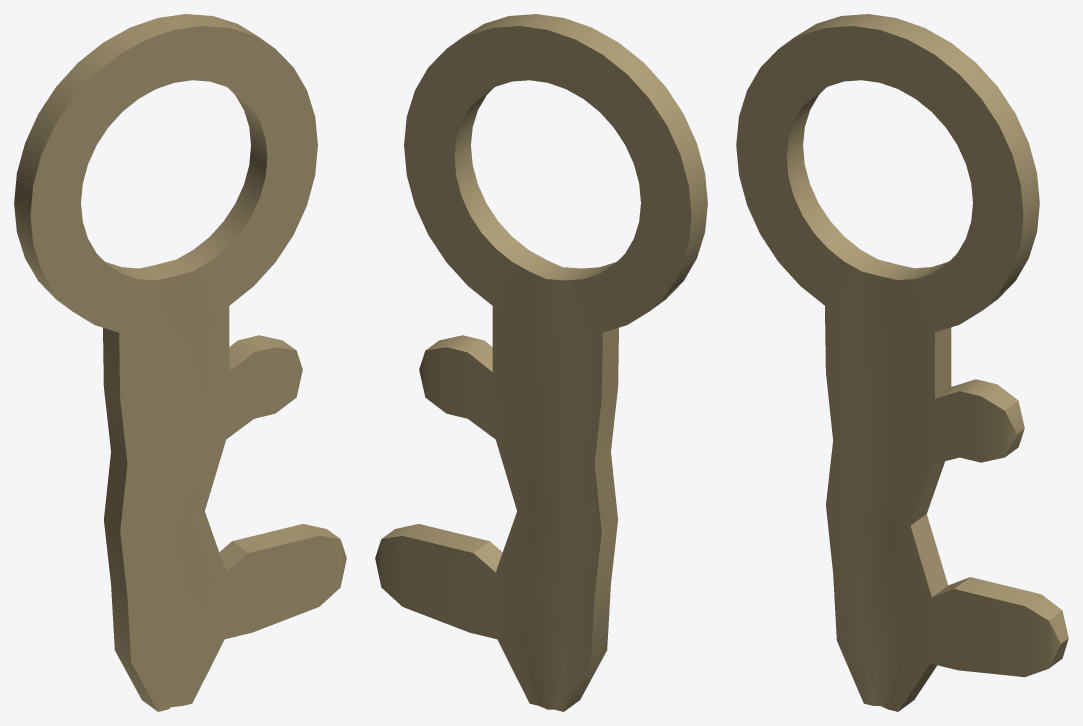
File: Key.fbx
3 views of the same model, side by side, from view 1: azimuth 30°, elevation 25°; view 2: azimuth 150°, elevation 25°; view 3: azimuth 330°, elevation 25° (orthographic).
Parts seen in each view (by area): view 1: Cylinder; view 2: Cylinder; view 3: Cylinder.
Boxes of the visible parts, box(x1,y1,x2,y2) form: Cylinder: box(14, 14, 346, 711); Cylinder: box(375, 14, 707, 711); Cylinder: box(736, 14, 1068, 711).
Size of the model in its own units: 0.0693 by 0.7139 by 1.44.
